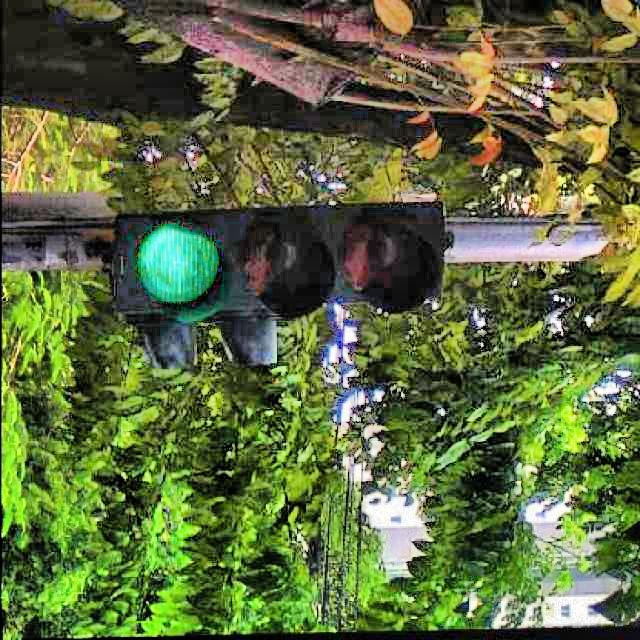green: (116, 199, 451, 316)
